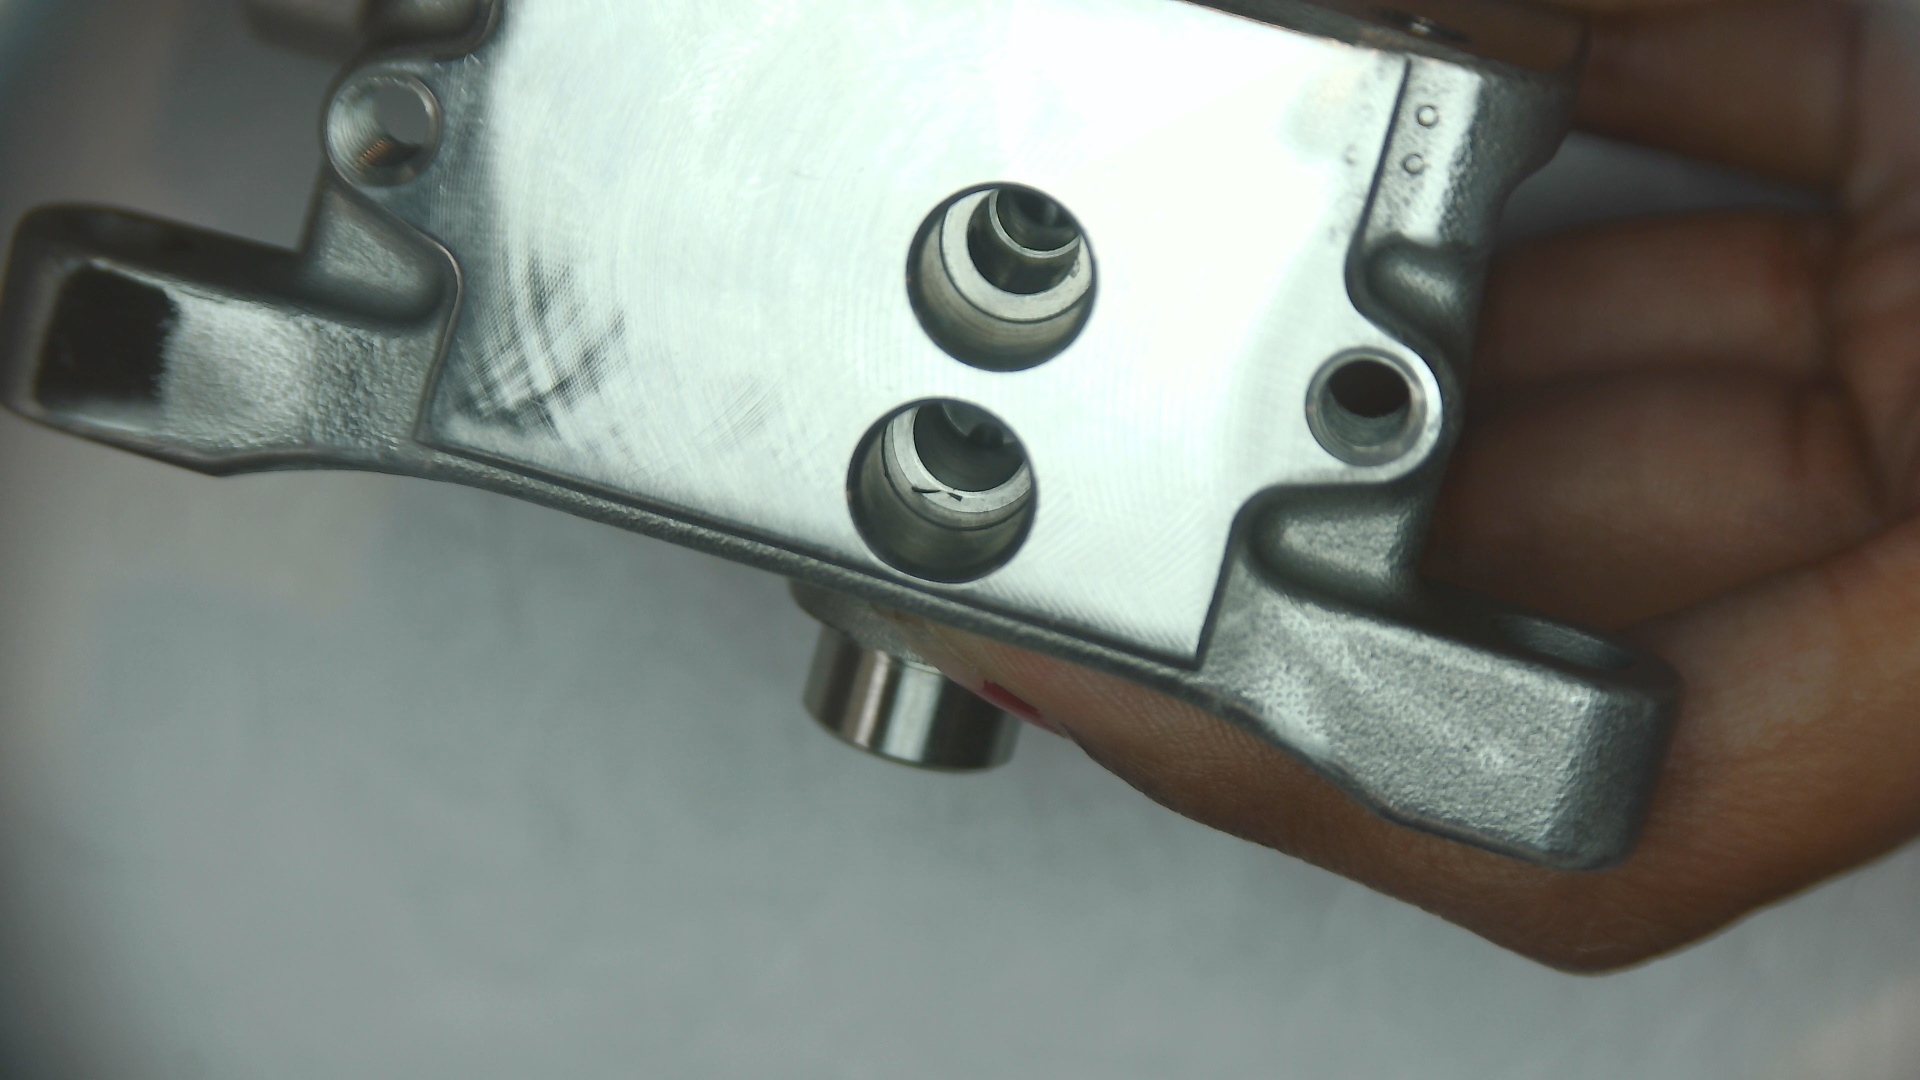burr: (1815, 961, 1920, 1011)
